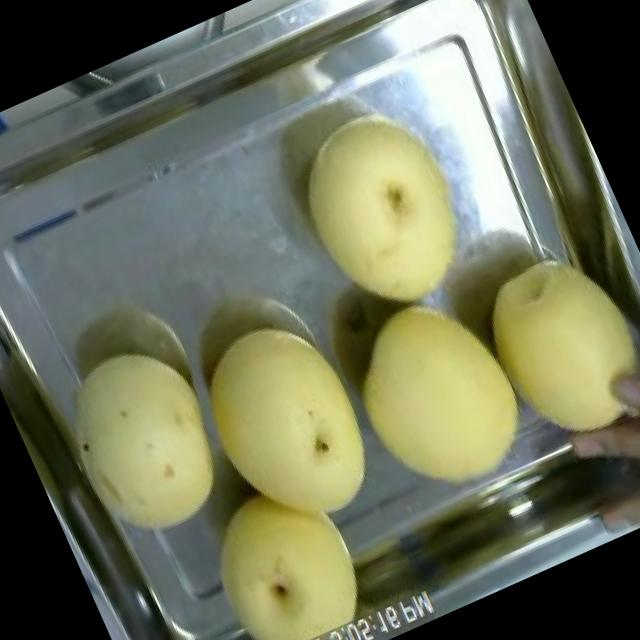Fruit: (313, 262, 565, 538), (173, 289, 410, 562), (266, 82, 504, 346), (25, 316, 257, 574), (445, 213, 640, 484), (177, 457, 390, 640)
